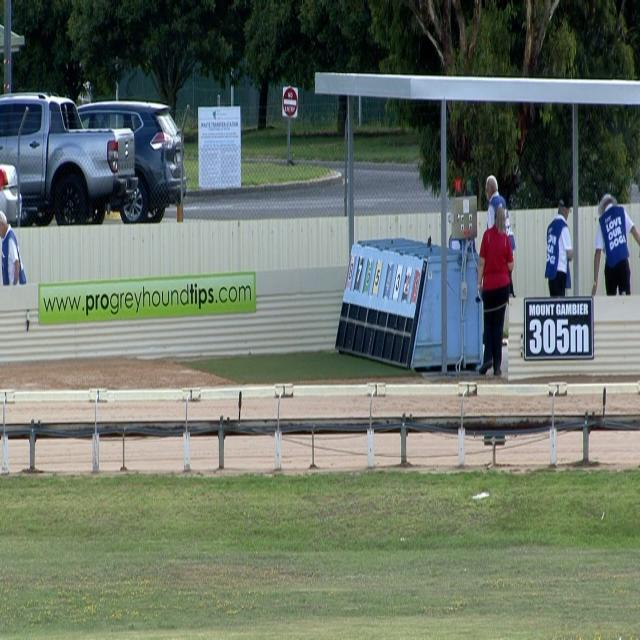rail: (0, 413, 640, 440)
